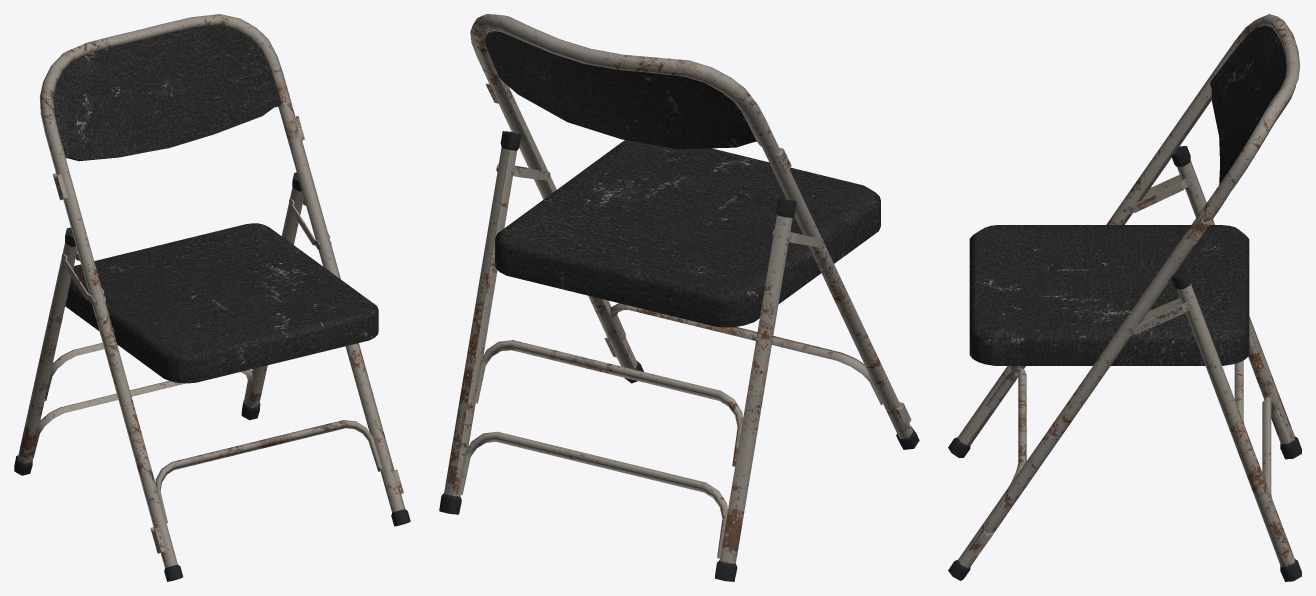
The model's file is 153_FoldingChair.fbx.
The picture shows the model from 3 angles, left to right: view 1: azimuth 30°, elevation 25°; view 2: azimuth 150°, elevation 25°; view 3: azimuth 270°, elevation 25°; orthographic projection. The views are drawn at different scales.
Parts seen in each view (by area): view 1: LOD_1_Group_0_Sub_1__sm30_153_FoldingChair01A_A_Mat; view 2: LOD_1_Group_0_Sub_1__sm30_153_FoldingChair01A_A_Mat; view 3: LOD_1_Group_0_Sub_1__sm30_153_FoldingChair01A_A_Mat.
Boxes of the visible parts, x1,y1,x2,y2 form: LOD_1_Group_0_Sub_1__sm30_153_FoldingChair01A_A_Mat: (14,14,410,581); LOD_1_Group_0_Sub_1__sm30_153_FoldingChair01A_A_Mat: (439,14,919,581); LOD_1_Group_0_Sub_1__sm30_153_FoldingChair01A_A_Mat: (948,14,1301,581).
Bounding box in the file's own units: 0.6749 × 1.1 × 0.7649.
